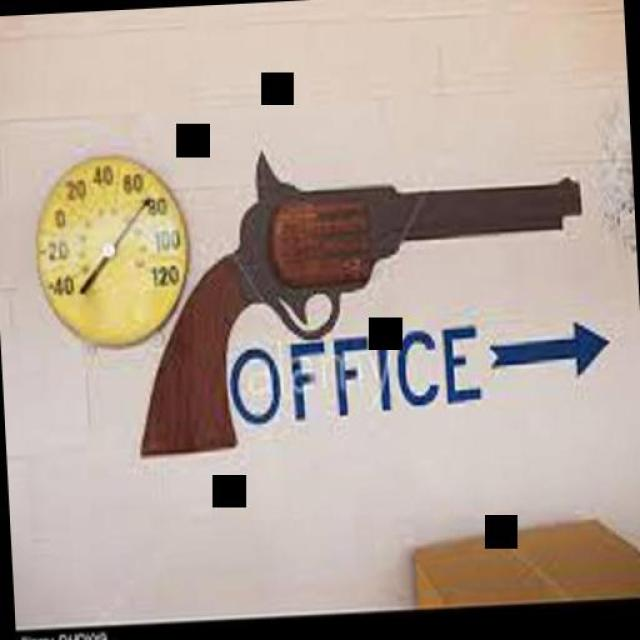gun: (106, 110, 599, 452)
